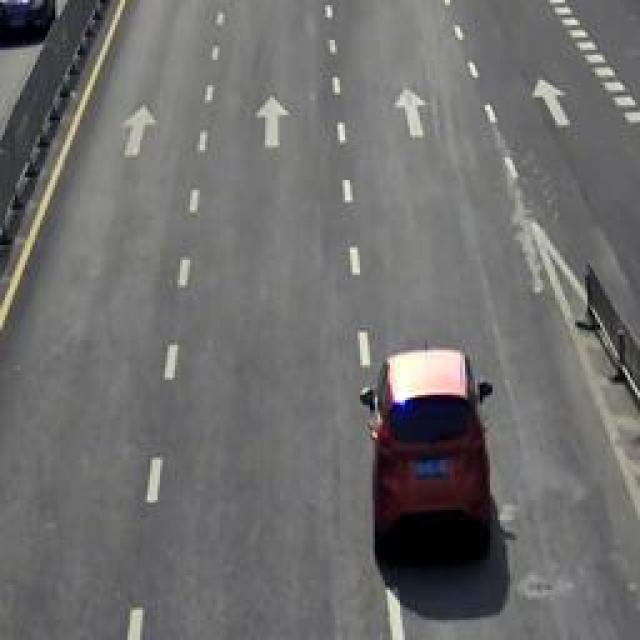other: (360, 322, 501, 541)
